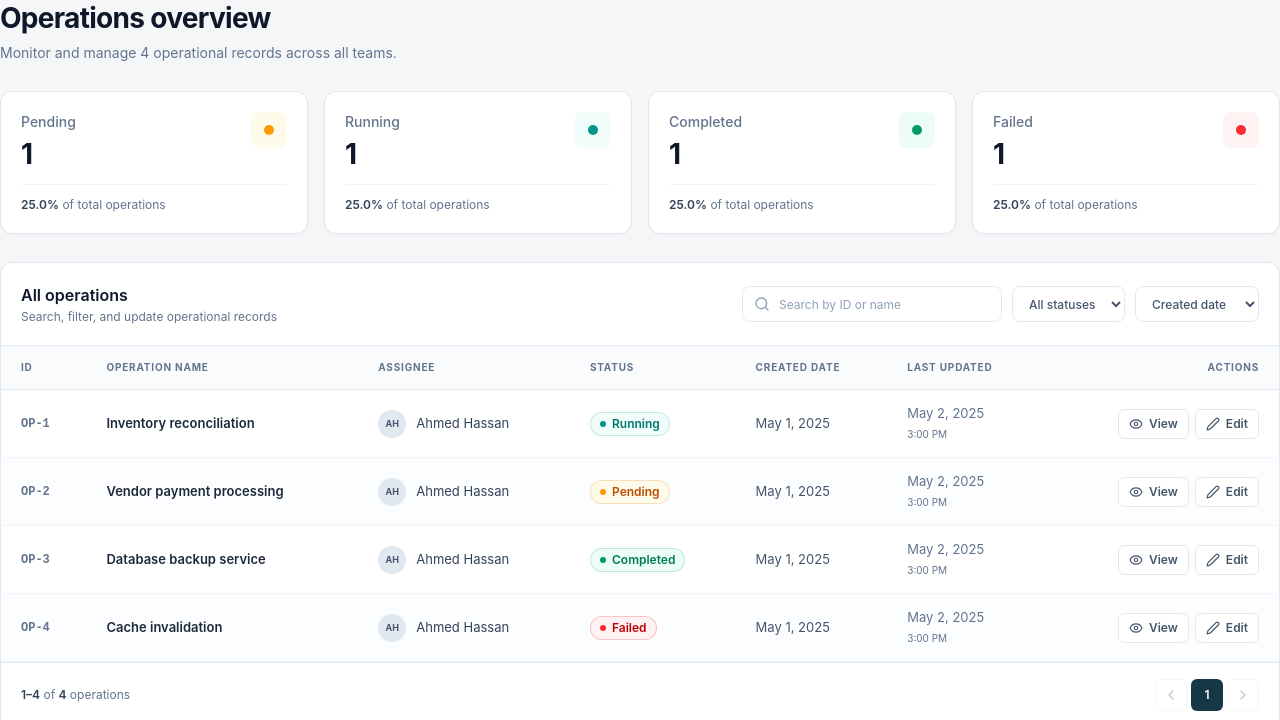
Test: OperationsPage integration › prevention of stale data on a new search › clears previous results and pending states completely when a new search runs
expect the text "OP-1" is shown: met, box [1,390,90,458]
expect the text "OP-3" is shown: met, box [1,526,90,594]
Type "backup" into the field with placeholder "Search by ID or name" at (872, 304), box [742,286,1002,322]
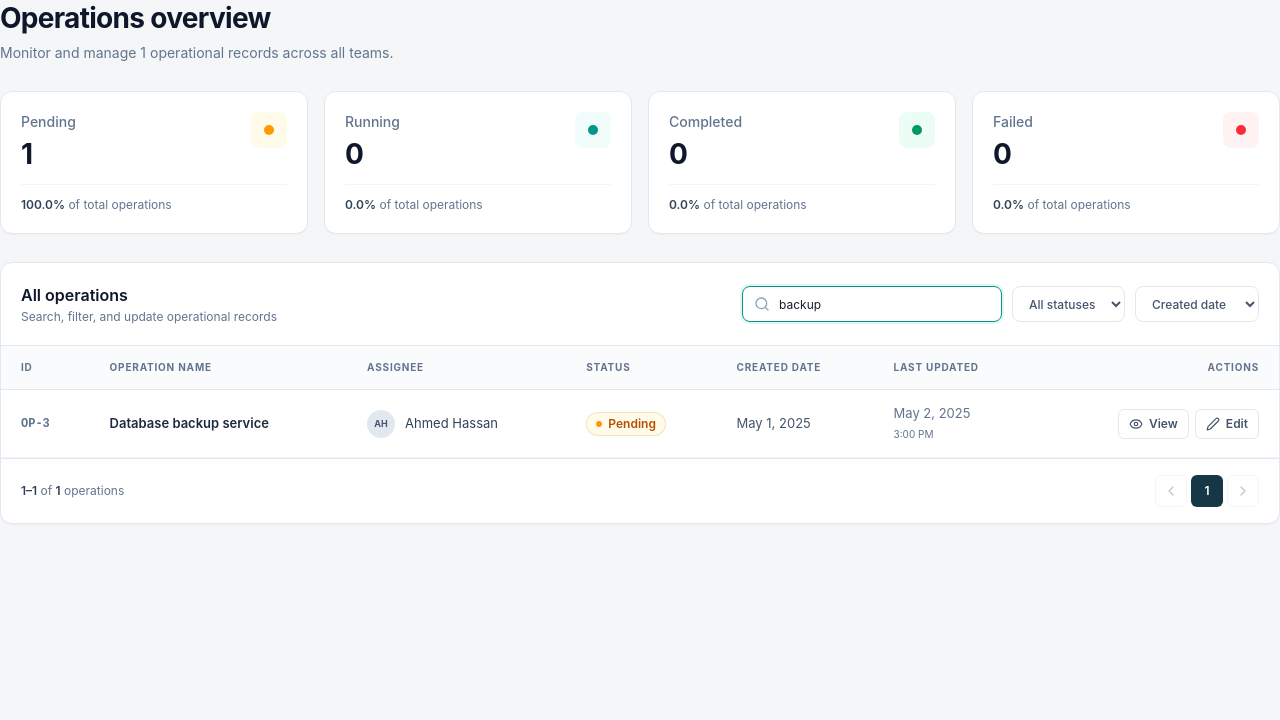
expect the text "OP-1" is gone: met
expect the text "OP-2" is gone: met
expect the text "OP-4" is gone: met
Note: بحث بلا نتائج: EmptyState بدل بقاء السجلات القديمة
Replace the text in the field with placeholder "Search by ID or name" with "nothing-matches-this" at (872, 304), box [742,286,1002,322]
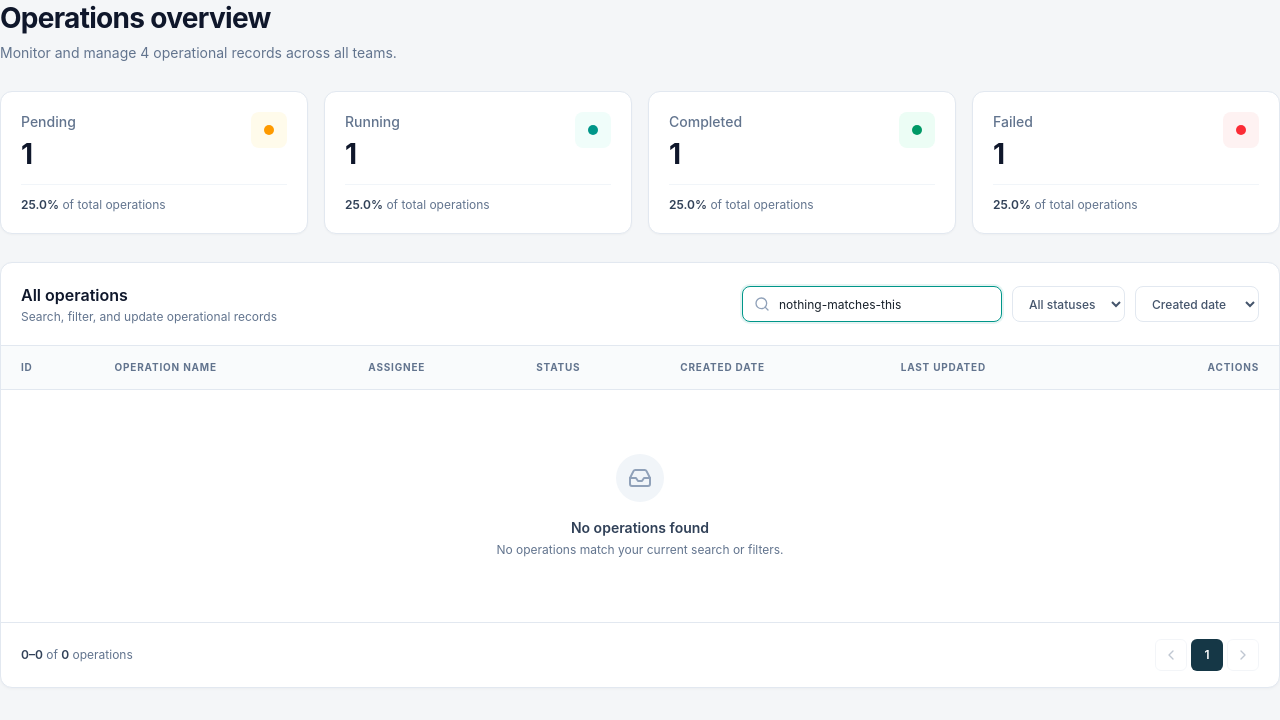
expect the text "No operations found" is shown: met, box [571,518,709,538]
expect the text "OP-3" is gone: met
